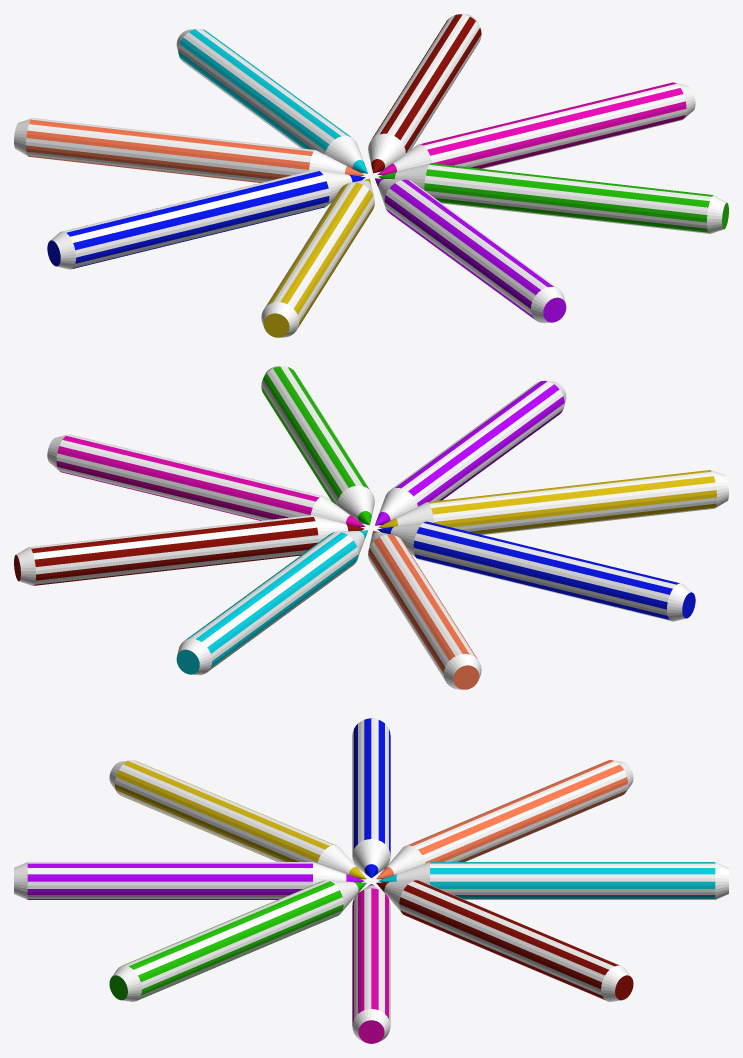
The model's file is colorful-pencils.fbx.
The picture shows the model from 3 angles, top to bottom: view 1: azimuth 30°, elevation 25°; view 2: azimuth 150°, elevation 25°; view 3: azimuth 270°, elevation 25°; orthographic projection. The views are drawn at different scales.
Visible parts, largest first — view 1: Cylinder.016, Cylinder.017, Cylinder.009, Cylinder.010, Cylinder.000, Cylinder.019, Cylinder.011, Cylinder.018; view 2: Cylinder.018, Cylinder.011, Cylinder.009, Cylinder.010, Cylinder.019, Cylinder.000, Cylinder.017, Cylinder.016; view 3: Cylinder.000, Cylinder.019, Cylinder.016, Cylinder.018, Cylinder.011, Cylinder.017, Cylinder.009, Cylinder.010.
Boxes of the visible parts, box(x1,y1,x2,y2) form: Cylinder.016: box(378, 163, 728, 233); Cylinder.017: box(14, 118, 364, 182); Cylinder.009: box(47, 169, 365, 269); Cylinder.010: box(377, 82, 695, 175); Cylinder.000: box(375, 178, 566, 323); Cylinder.019: box(176, 28, 367, 173); Cylinder.011: box(261, 178, 374, 337); Cylinder.018: box(368, 14, 481, 173); Cylinder.018: box(14, 515, 364, 585); Cylinder.011: box(378, 470, 728, 534); Cylinder.009: box(377, 521, 695, 621); Cylinder.010: box(47, 434, 365, 527); Cylinder.019: box(176, 530, 367, 675); Cylinder.000: box(375, 380, 566, 525); Cylinder.017: box(368, 530, 481, 689); Cylinder.016: box(261, 366, 374, 525); Cylinder.000: box(14, 862, 364, 899); Cylinder.019: box(378, 862, 728, 899); Cylinder.016: box(109, 880, 366, 1001); Cylinder.018: box(376, 880, 633, 1001); Cylinder.011: box(109, 760, 366, 879); Cylinder.017: box(376, 760, 633, 879); Cylinder.009: box(352, 718, 390, 877); Cylinder.010: box(352, 884, 390, 1043).
Size of what is drawn, in the model's own units: 1576 by 84.11 by 1576.
